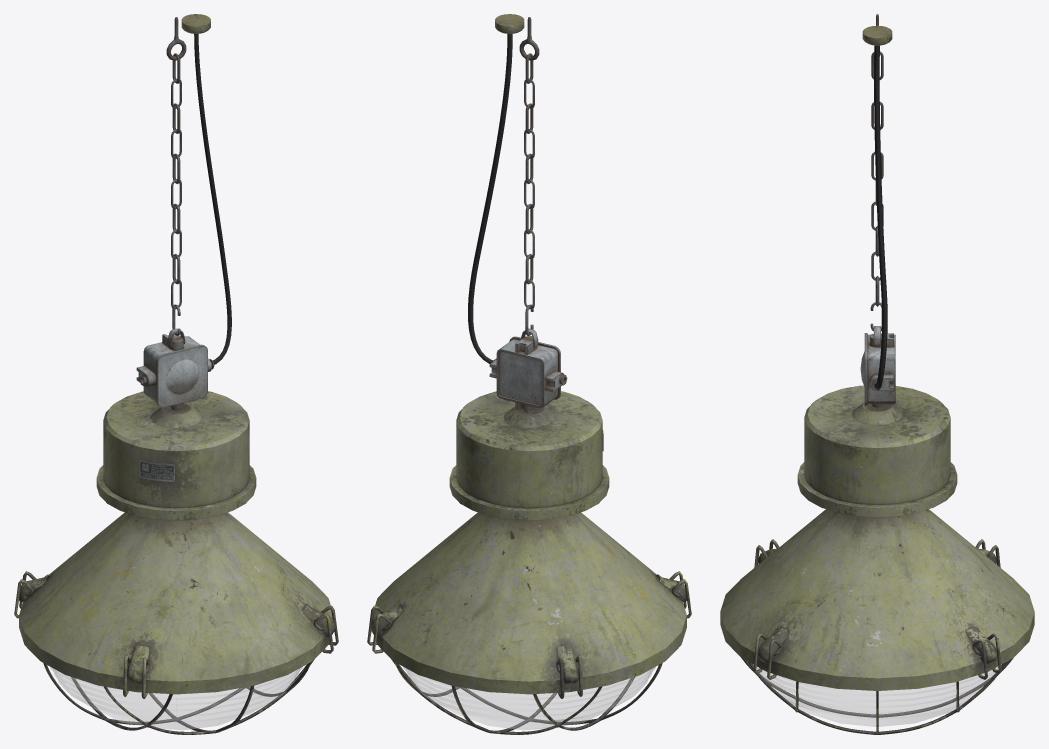
The picture shows the model from 3 angles, left to right: view 1: azimuth 30°, elevation 25°; view 2: azimuth 150°, elevation 25°; view 3: azimuth 270°, elevation 25°; orthographic projection.
Parts seen in each view (by area): view 1: hanging_industrial_lamp; view 2: hanging_industrial_lamp; view 3: hanging_industrial_lamp.
Part boxes in pixels (x1,y1,x2,y2): hanging_industrial_lamp: [14, 14, 338, 734]; hanging_industrial_lamp: [367, 14, 691, 734]; hanging_industrial_lamp: [720, 14, 1034, 734].
Bounding box in the file's own units: 0.5496 × 1.36 × 0.5496.
Materials: 2 (1 with a texture image).
